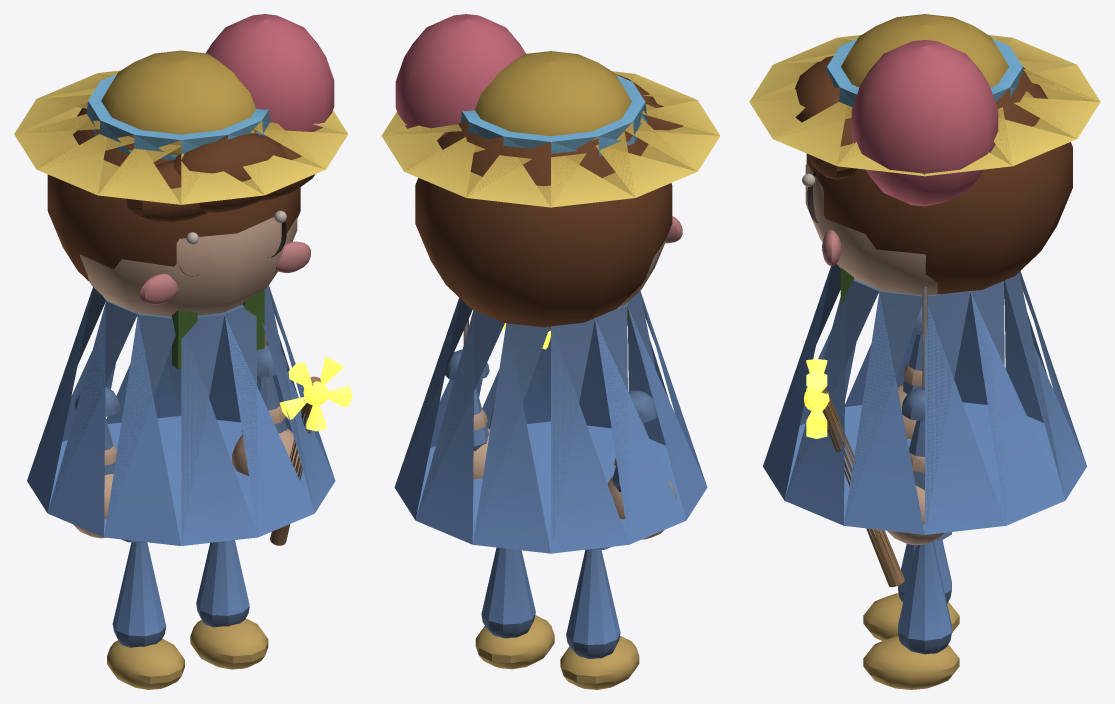
The model's file is boy-balloon-wand-rest.glb.
3 views of the same model, side by side, from view 1: azimuth 30°, elevation 25°; view 2: azimuth 150°, elevation 25°; view 3: azimuth 270°, elevation 25° (orthographic). The views are drawn at different scales.
Parts seen in each view (by area): view 1: player_boy-balloon-wand:rest; view 2: player_boy-balloon-wand:rest; view 3: player_boy-balloon-wand:rest.
Boxes of the visible parts, left/top/right/bottom form: player_boy-balloon-wand:rest: left=14, top=14, right=352, bottom=689; player_boy-balloon-wand:rest: left=381, top=14, right=720, bottom=689; player_boy-balloon-wand:rest: left=749, top=14, right=1100, bottom=689.
Size of the model in its own units: 0.52 by 1.08 by 0.52.
